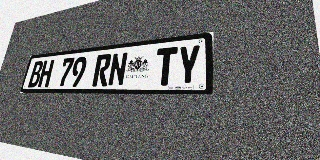7: (57, 57, 75, 87)
9: (69, 56, 88, 87)
B: (28, 61, 44, 87)
H: (37, 60, 55, 87)
N: (107, 52, 128, 86)
R: (92, 54, 112, 87)
T: (154, 47, 178, 86)
Y: (176, 44, 201, 85)
